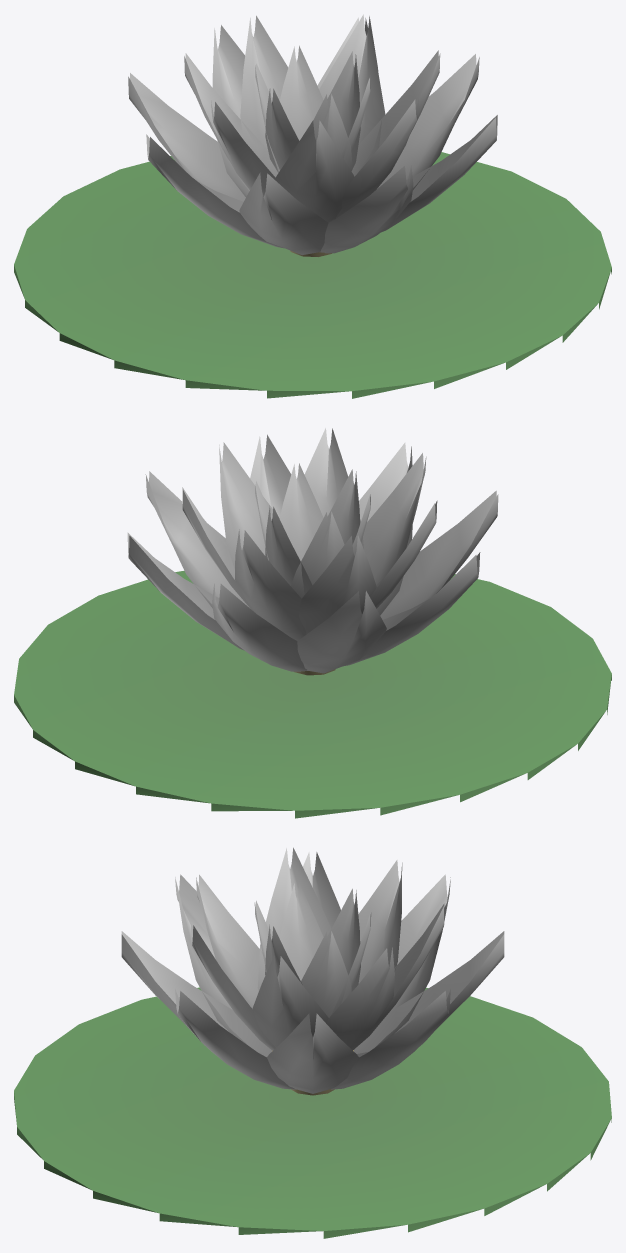
File: plant_lotus_1.glb
3 renders of one model, top to bottom at view 1: azimuth 30°, elevation 25°; view 2: azimuth 150°, elevation 25°; view 3: azimuth 270°, elevation 25°, orthographic.
Visible parts, largest first — view 1: refined; view 2: refined; view 3: refined.
Boxes of the visible parts, x1,y1,x2,y2 form: refined: [14, 14, 611, 398]; refined: [14, 428, 611, 818]; refined: [14, 847, 611, 1238].
Bounding box in the file's own units: 0.8395 × 0.3236 × 0.8352.
